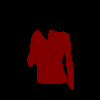polo: (26, 29, 74, 90)
